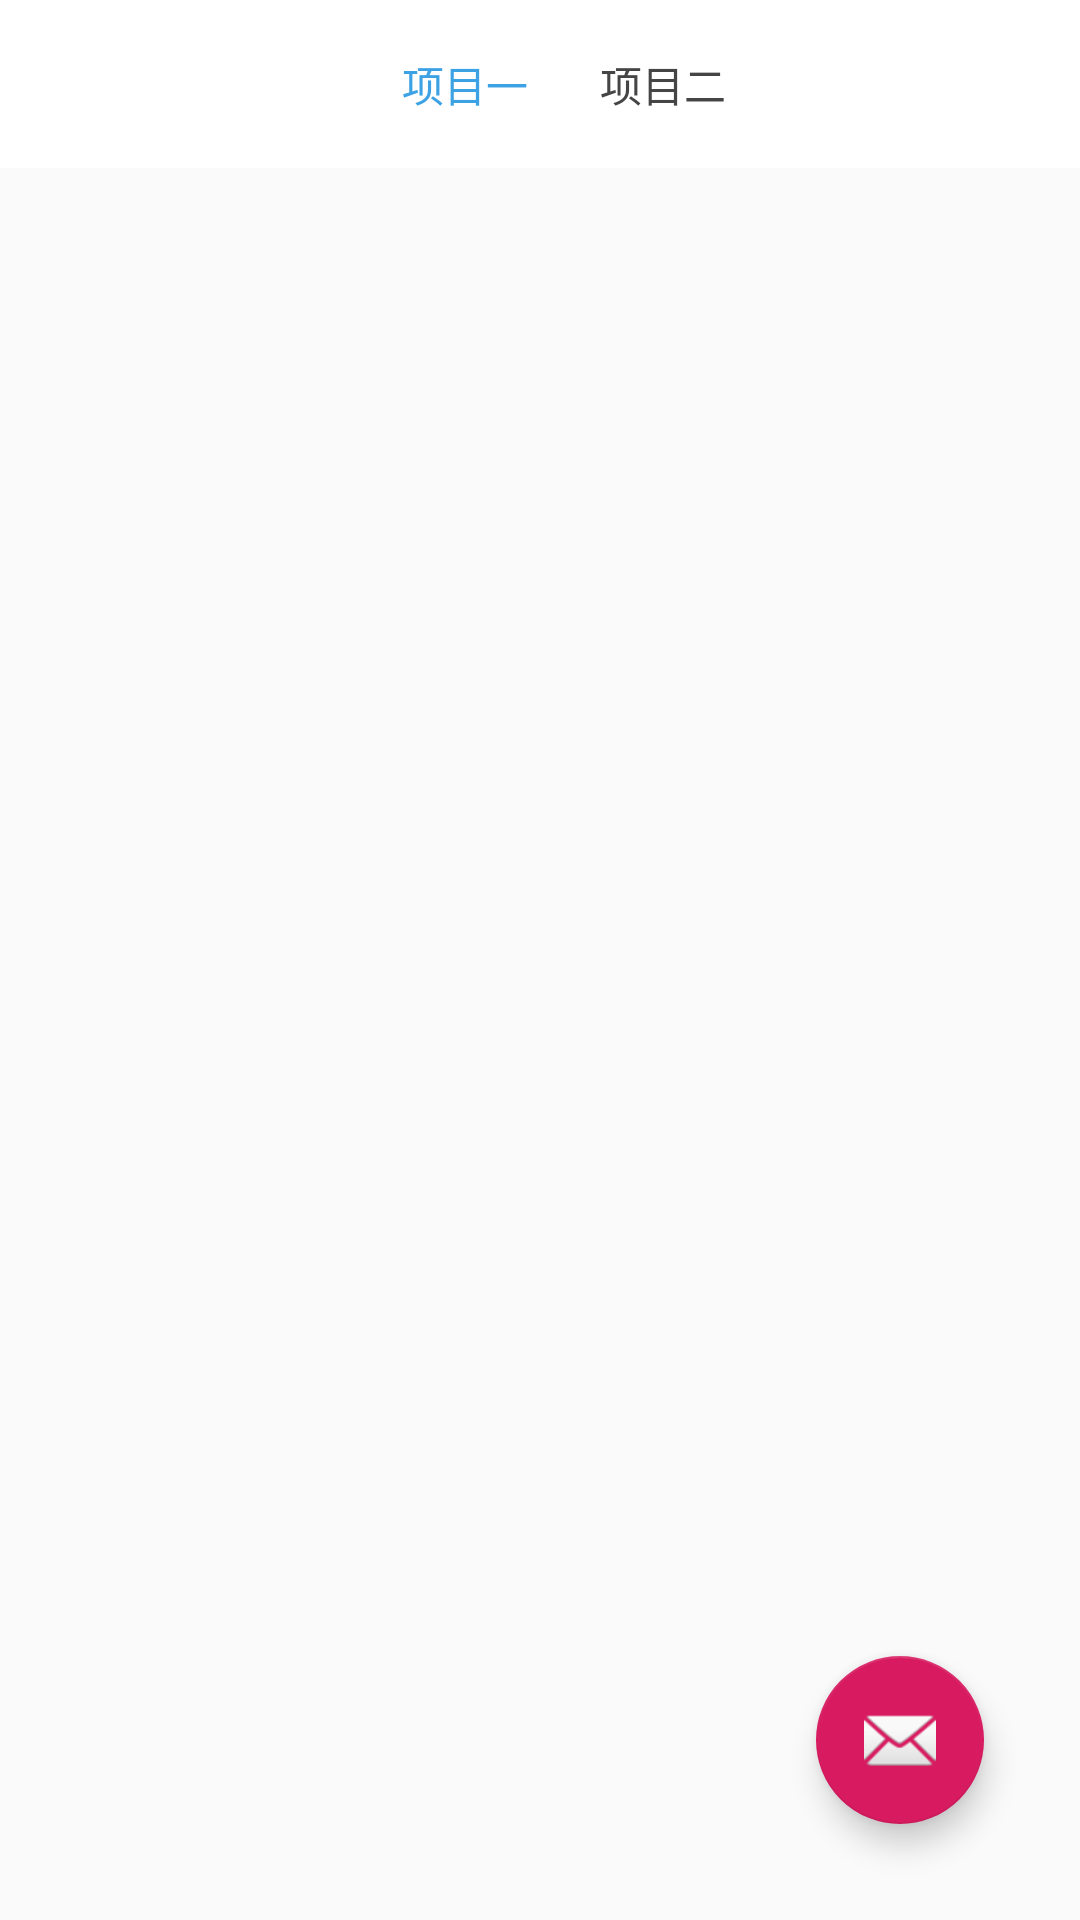

Named icons in this screenshot (1080×1920) and their bounding boxes, (x1, y1, x2, y2):
email: (816, 1656, 984, 1824)
